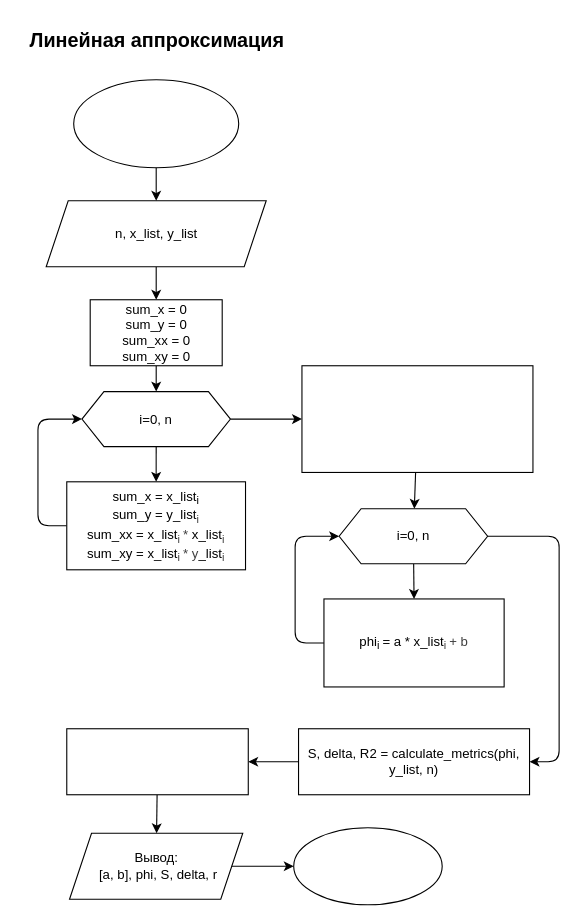
The diagram is 587 pixels wide and 924 high, and some of its shapes have lost their labels. The shapes that lost their labels are listed below. From the top down, each one's box as (x1, y1, x2, y2) in pixels, then its label:
(73, 79, 239, 168): начало
(301, 365, 533, 472): a,b = solve_linear_system( [ [sum_xx, sum_x], [sum_x, n] ], [ sum_xy, sum_y ] )
(66, 728, 248, 795): r = calculate_pearson(x_list, y_list, n)
(293, 827, 442, 905): конец
